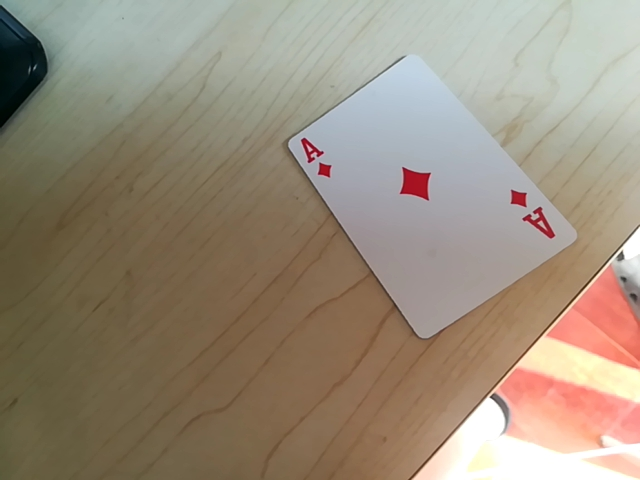fk a: (505, 186, 558, 243), (288, 133, 337, 188)
